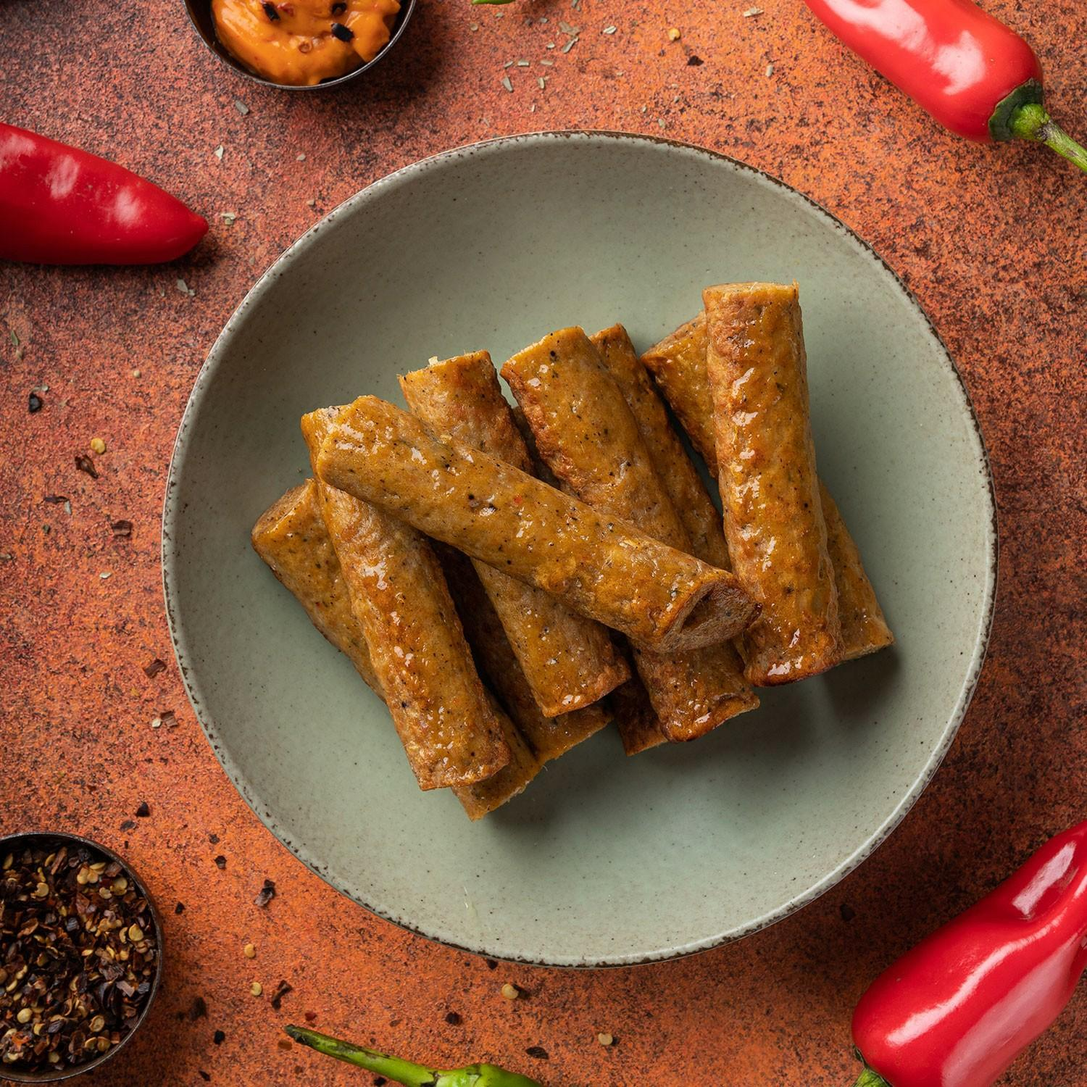Kebab: (498, 324, 769, 755), (318, 396, 755, 648), (250, 480, 538, 823), (640, 321, 897, 681), (401, 350, 626, 715), (305, 406, 512, 789), (699, 281, 838, 679)
